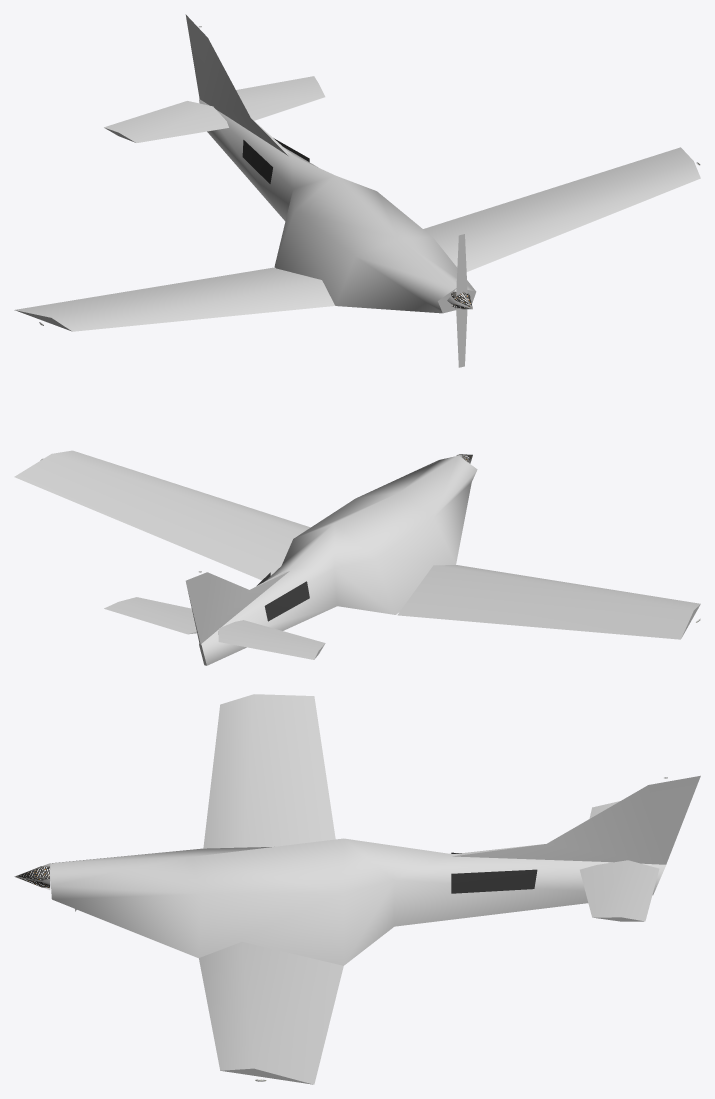
The picture shows the model from 3 angles, top to bottom: view 1: azimuth 30°, elevation 25°; view 2: azimuth 150°, elevation 25°; view 3: azimuth 270°, elevation 25°; orthographic projection. The views are drawn at different scales.
Parts seen in each view (by area): view 1: fuselage, Prop0_Still, Registration_Exterior; view 2: fuselage, Registration_Exterior; view 3: fuselage, Registration_Exterior.
Boxes of the visible parts, x1=… form: fuselage: x1=14, y1=14, x2=700, y2=331; Prop0_Still: x1=447, y1=234, x2=472, y2=367; Registration_Exterior: x1=242, y1=138, x2=309, y2=183; fuselage: x1=14, y1=450, x2=700, y2=665; Registration_Exterior: x1=257, y1=572, x2=309, y2=621; fuselage: x1=50, y1=694, x2=700, y2=1084; Registration_Exterior: x1=451, y1=852, x2=537, y2=893.
Size of the model in its own units: 8.41 by 1.82 by 6.28.
